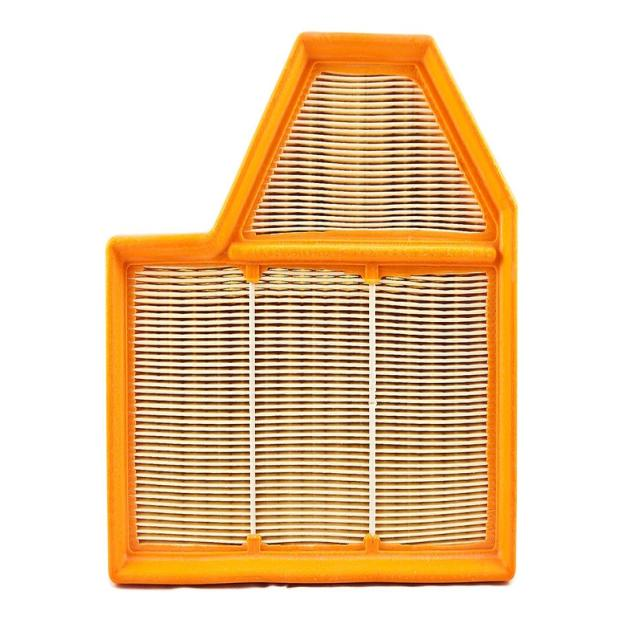air_filter: (105, 25, 519, 592)
